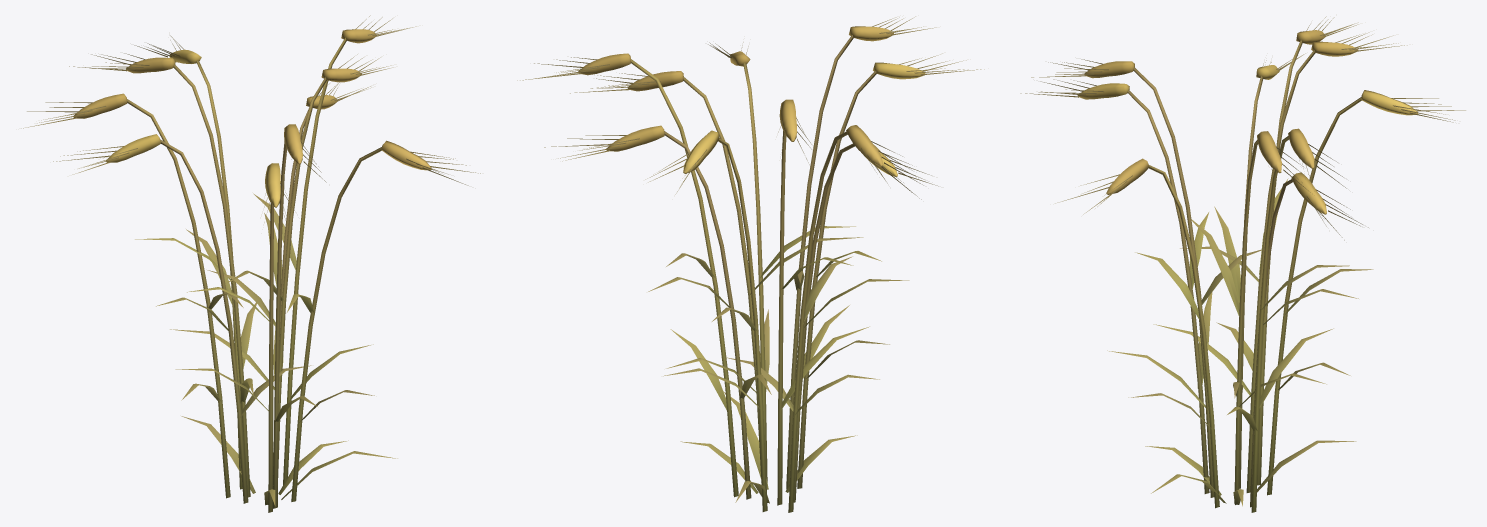
Rendered from crop_grain_s3.glb.
3 renders of one model, left to right at view 1: azimuth 30°, elevation 25°; view 2: azimuth 150°, elevation 25°; view 3: azimuth 270°, elevation 25°, orthographic. The views are drawn at different scales.
Parts seen in each view (by area): view 1: Crop_Grain_S3; view 2: Crop_Grain_S3; view 3: Crop_Grain_S3.
Part boxes in pixels (bbox=[...]): Crop_Grain_S3: bbox=[21, 15, 480, 512]; Crop_Grain_S3: bbox=[517, 16, 984, 512]; Crop_Grain_S3: bbox=[1020, 16, 1465, 512].
Size of the model in its own units: 0.8422 by 0.8586 by 0.8274.
